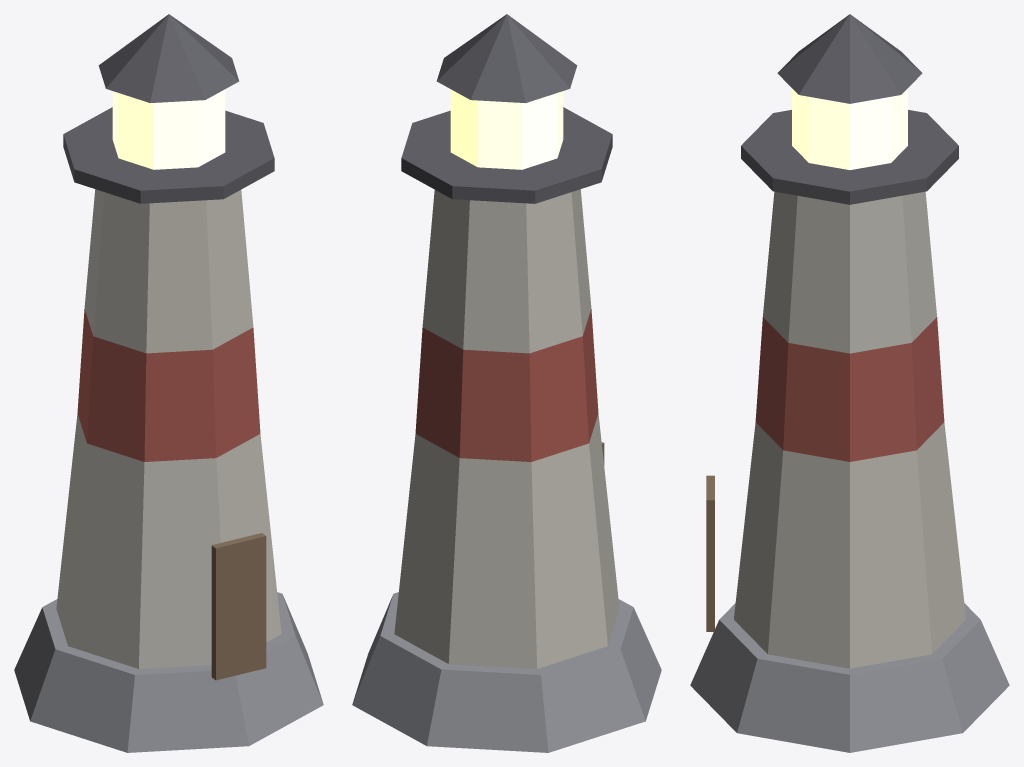
Rendered from lighthouse.glb.
3 renders of one model, left to right at view 1: azimuth 30°, elevation 25°; view 2: azimuth 150°, elevation 25°; view 3: azimuth 270°, elevation 25°, orthographic.
Parts seen in each view (by area): view 1: lighthouse; view 2: lighthouse; view 3: lighthouse.
Boxes of the visible parts, left/top/right/bottom form: lighthouse: left=14, top=14, right=323, bottom=752; lighthouse: left=352, top=14, right=661, bottom=752; lighthouse: left=690, top=14, right=1009, bottom=752.
Bounding box in the file's own units: 4.4 × 10.2 × 4.4.
